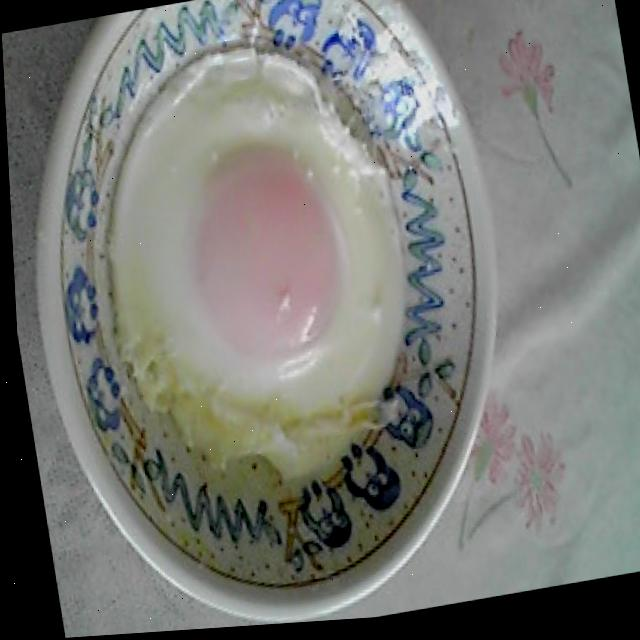鸡蛋料理: (81, 40, 427, 503)
